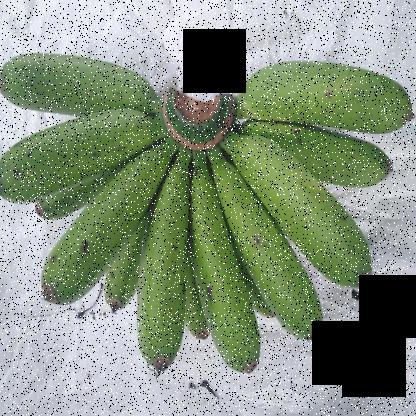unripe: (225, 129, 379, 322), (30, 140, 186, 316), (211, 166, 328, 343), (178, 159, 262, 378), (1, 102, 159, 210), (1, 39, 178, 134), (132, 148, 198, 380), (237, 58, 415, 142), (240, 118, 410, 184)
